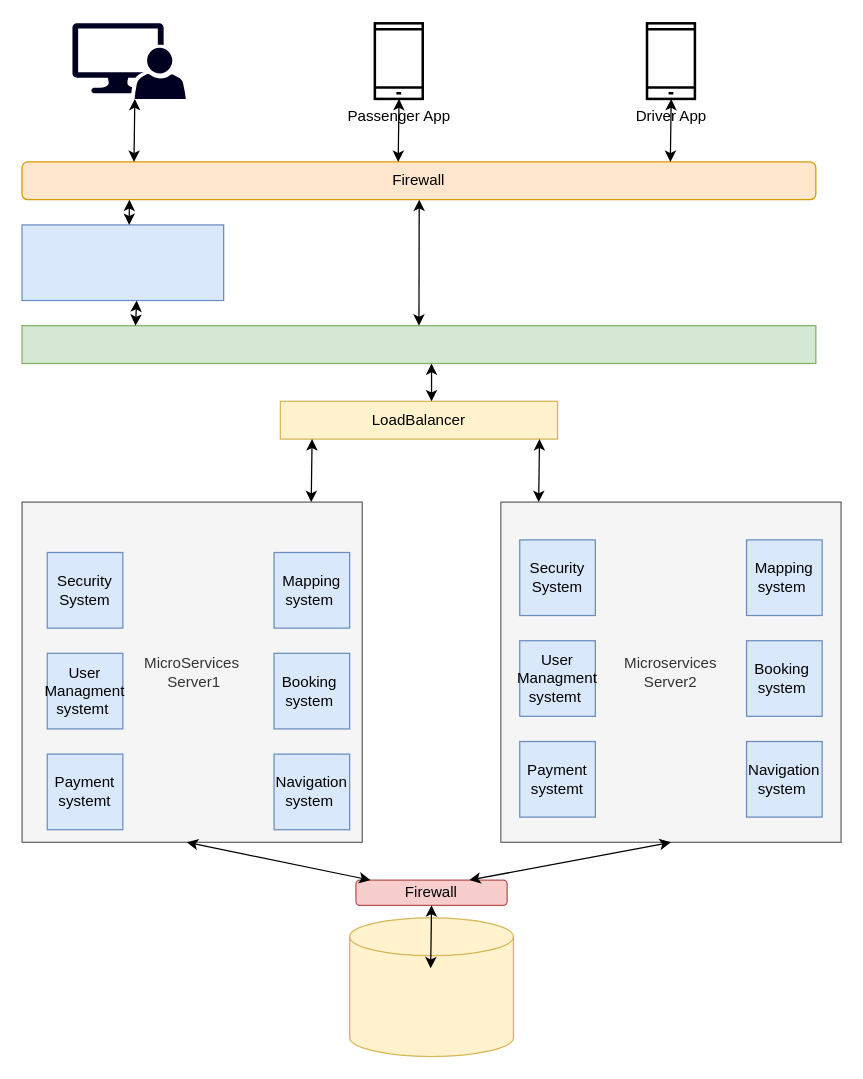
Image size: 863x1079. Some labels were removed from this diagram. The centre of each missing label's shape, as x and y in pixels:
"Api Gateway" belongs at pixel 418 344.
"DB Server" belongs at pixel 430 987.
"Uber Staff" belongs at pixel 128 60.
"WebServer" belongs at pixel 122 262.
